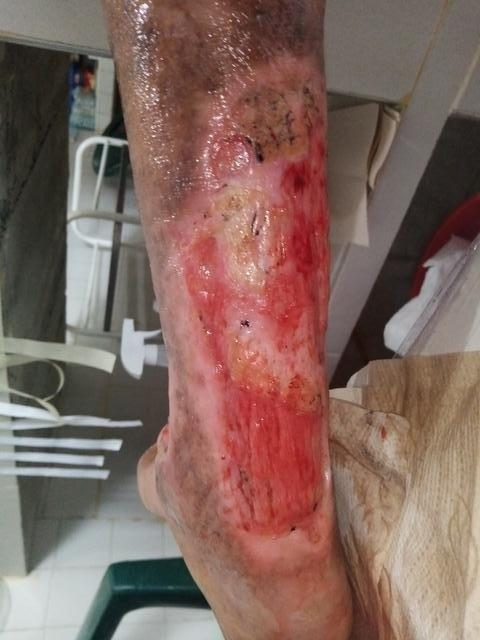wound: (162, 82, 334, 544)
